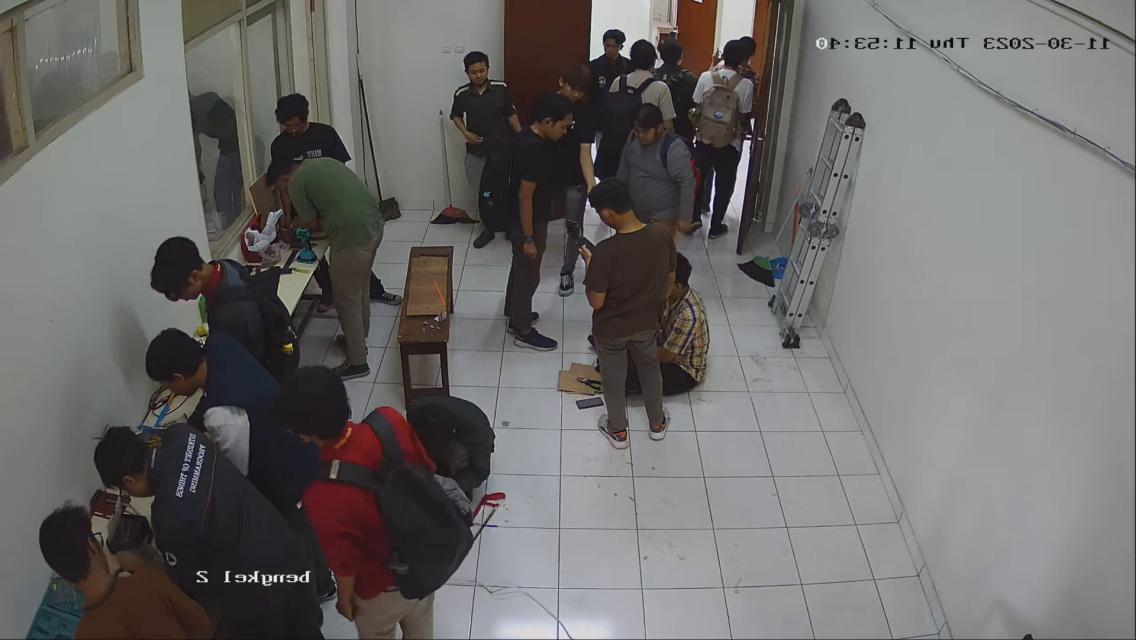Crowd: (432, 19, 767, 446)
